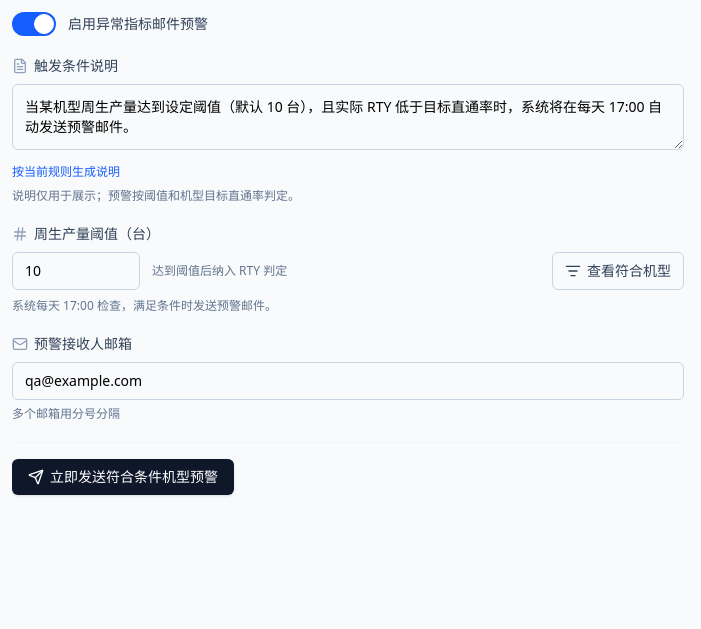
Test case: EmailAlertTab › reports a partial send failure and keeps the rule page concise
expect the field named "预警接收人邮箱" is shown: met, box [12,362,684,400]
Click the button "立即发送符合条件机型预警" at [123, 477], box [12,459,234,495]
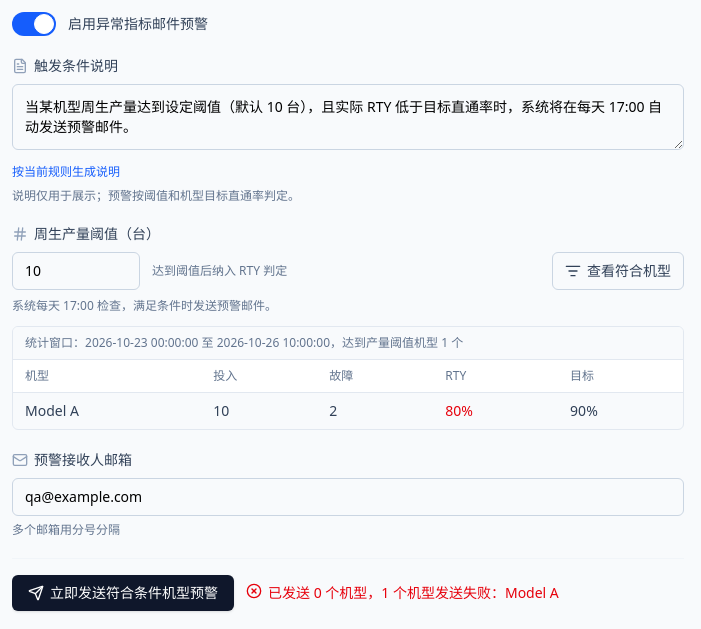
expect the message shows "1 个机型发送失败：Model A": met, box [268,583,559,602]
